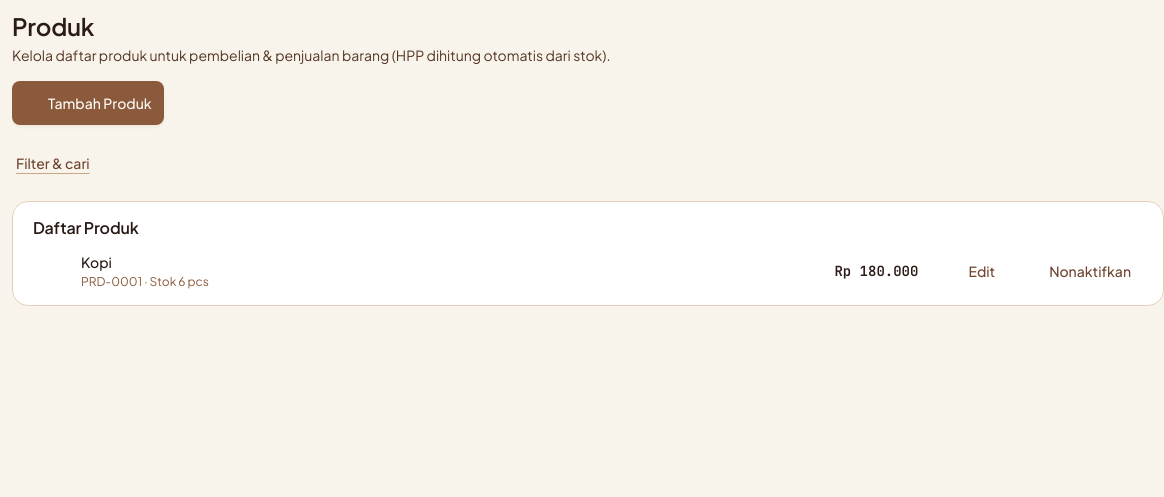
Test: ProductsPage expandable rows › info HPP/Jual pindah ke panel expand (baris ringkas)
The image size is (1164, 497).
Check: the text "Kopi" is shown, box [81, 253, 112, 271]
Click the button with aria-label "riwayat mutasi kopi" at (96, 262), box [33, 249, 918, 293]
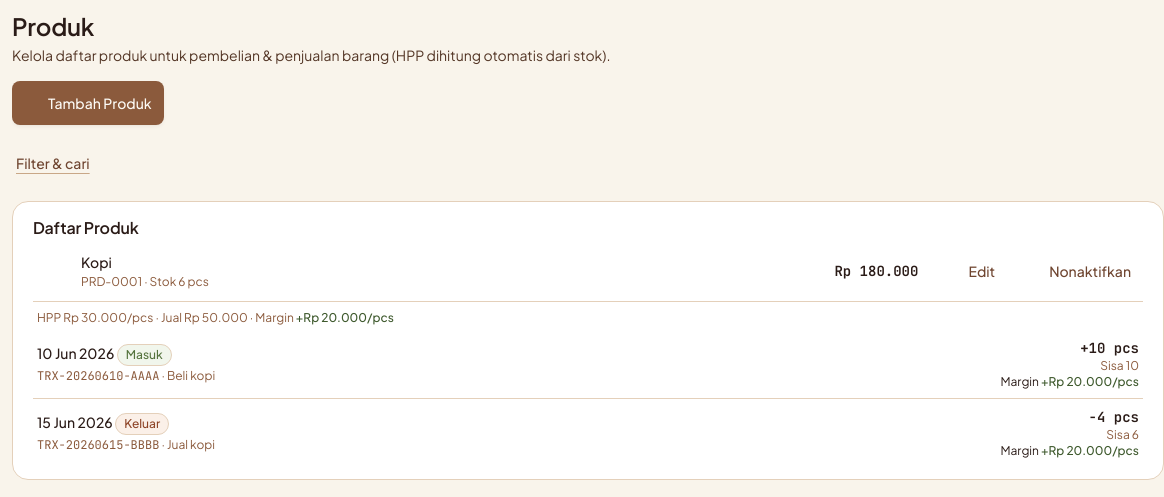
Check: the text "HPP Rp 30.000/pcs · Jual Rp 50.000 · Margin +Rp 20.000/pcs" is shown, box [37, 310, 394, 325]
